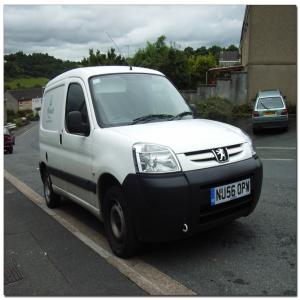Vehicle-registration-plate: (212, 178, 253, 208), (266, 111, 277, 116)
